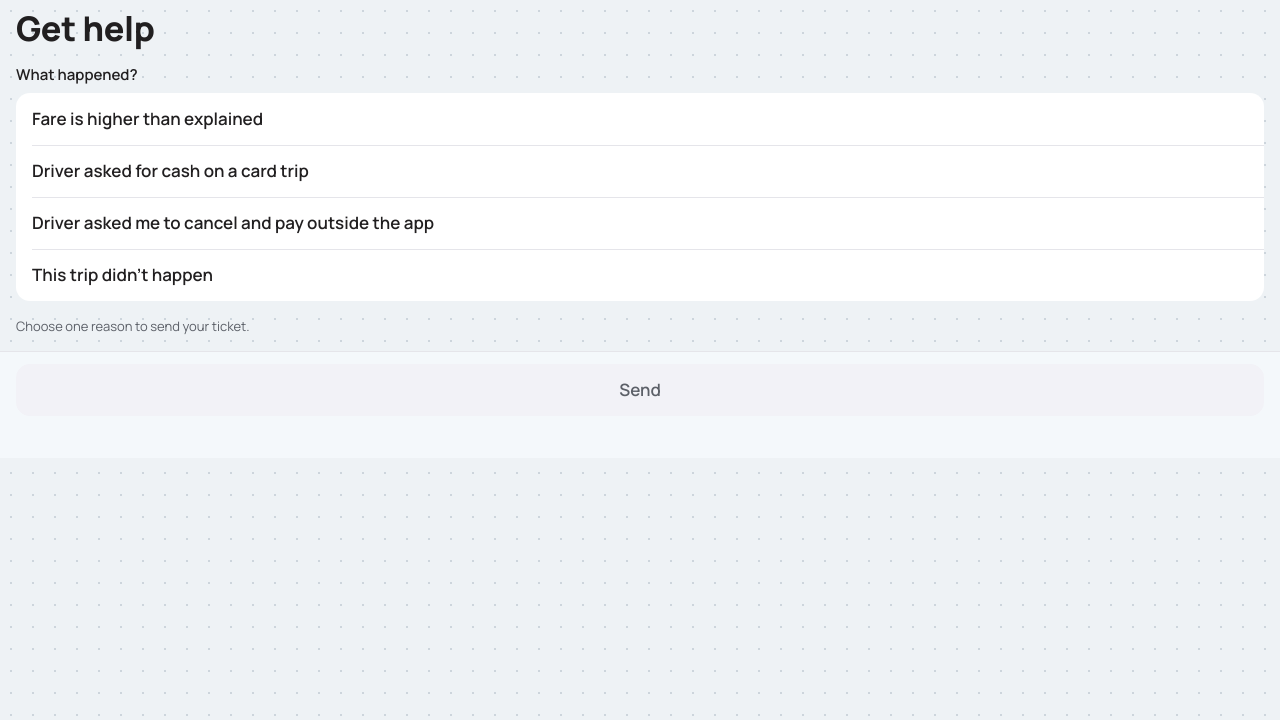
Scenario: Help › enables submit once a reason is picked
Click the radio button labelled "This trip didn’t happen" at (122, 274), box 16,249 -> 1264,301
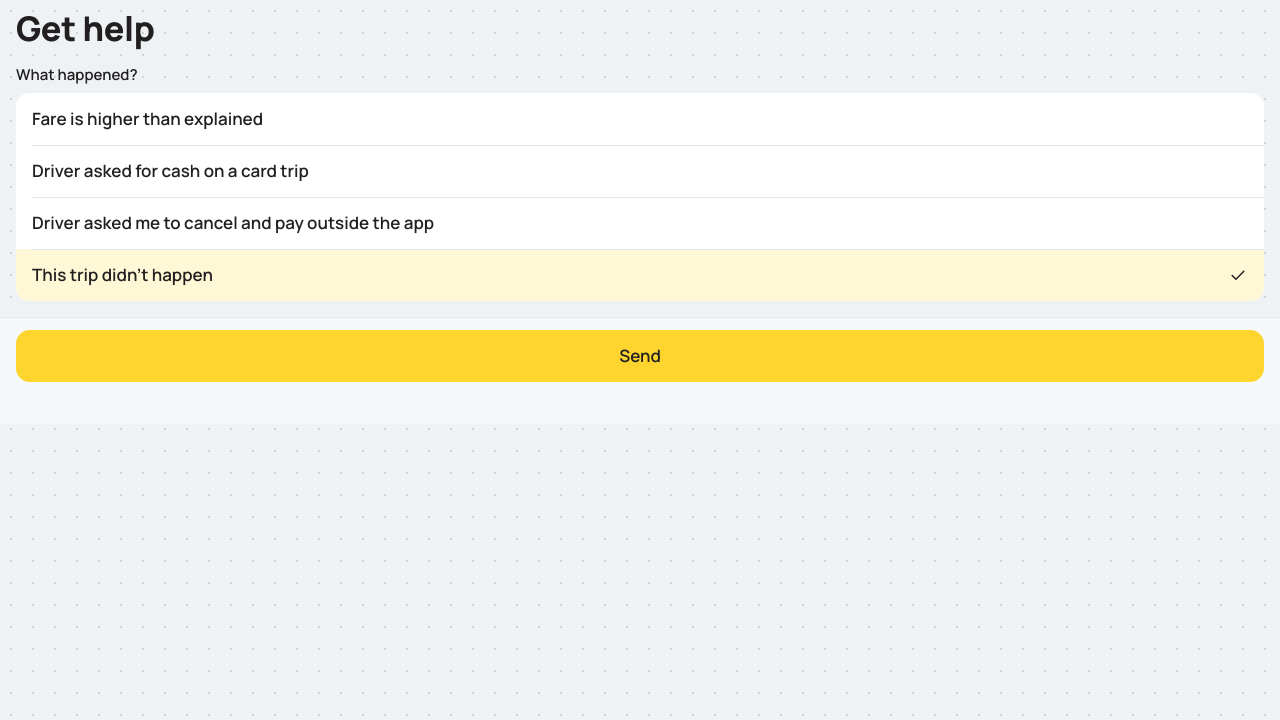
Check: the button "Send" is enabled, box 16,330 -> 1264,382
